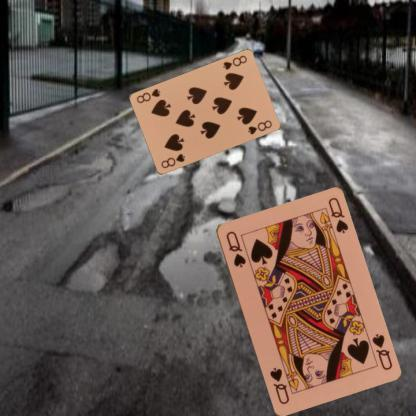8s: (158, 151, 186, 170), (220, 53, 248, 71)
Qs: (368, 330, 393, 372), (223, 228, 247, 269)
